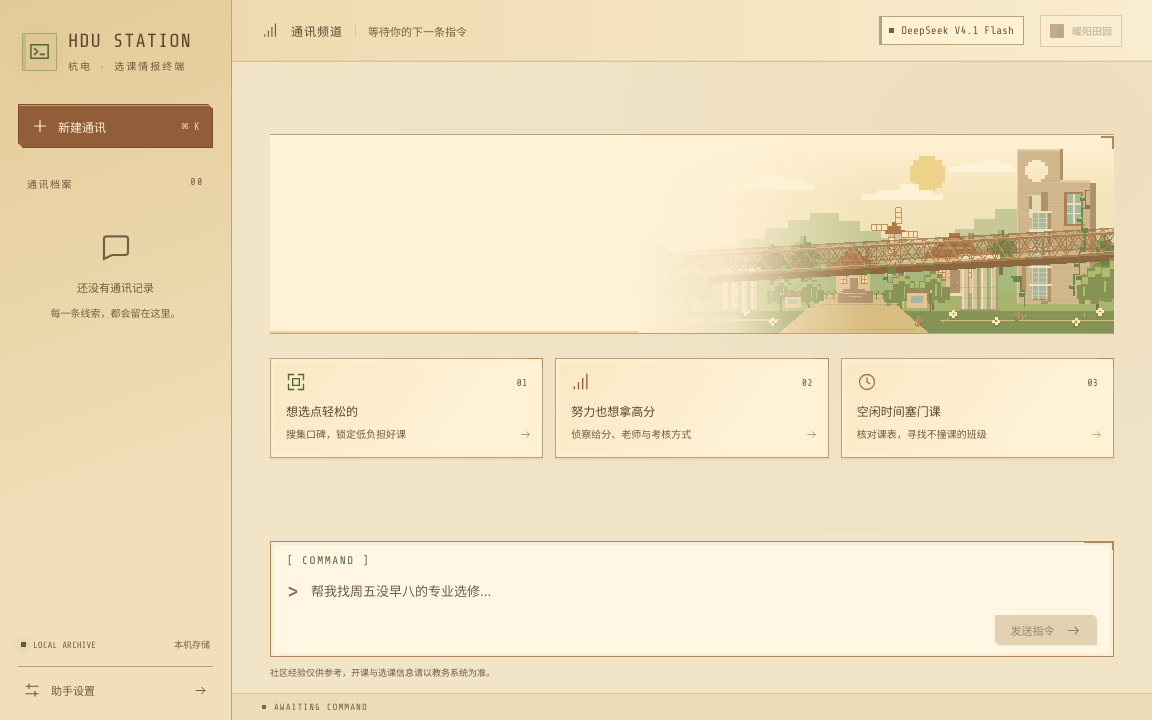
course assistant › streams Markdown, stops the right request and preserves its final partial answer
What coordinates should you click on to do the following:
click the button "01 想选点轻松的 搜集口碑，锁定低负担好课"
I would click on:
 (322, 412)
Its box is 270,358 -> 543,458.
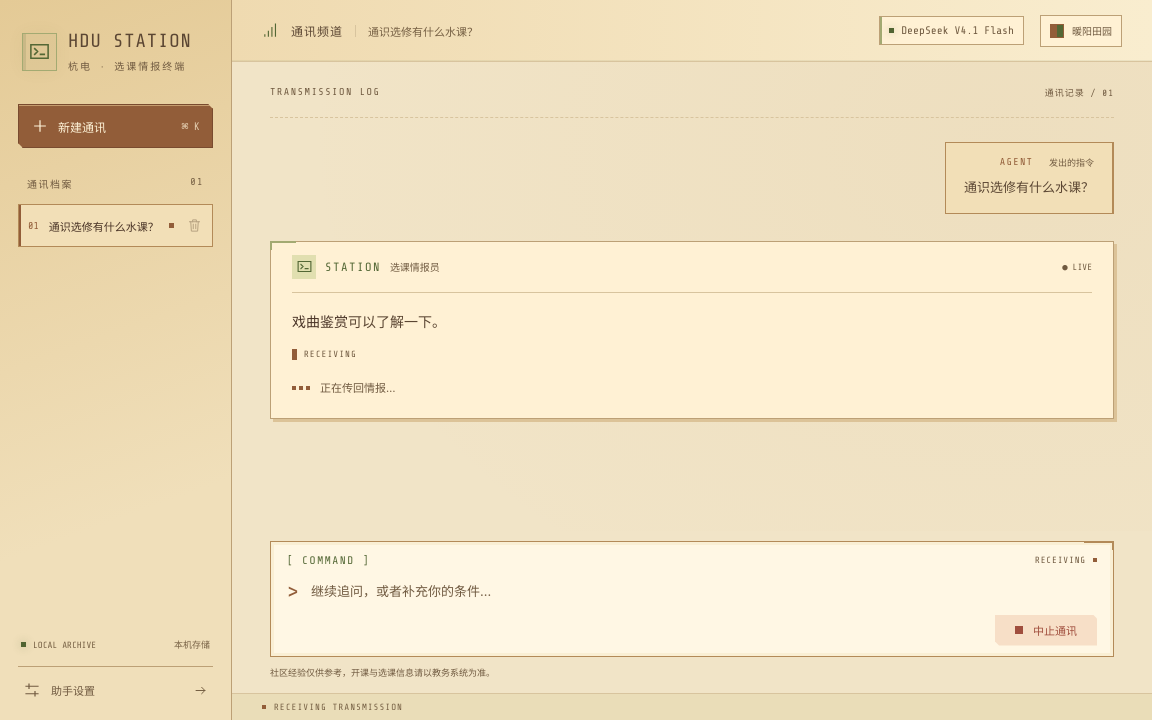
What coordinates should you click on to do the following:
click the button with aria-label "停止回答"
I would click on:
 (1046, 630)
Its box is 995,615 -> 1097,646.
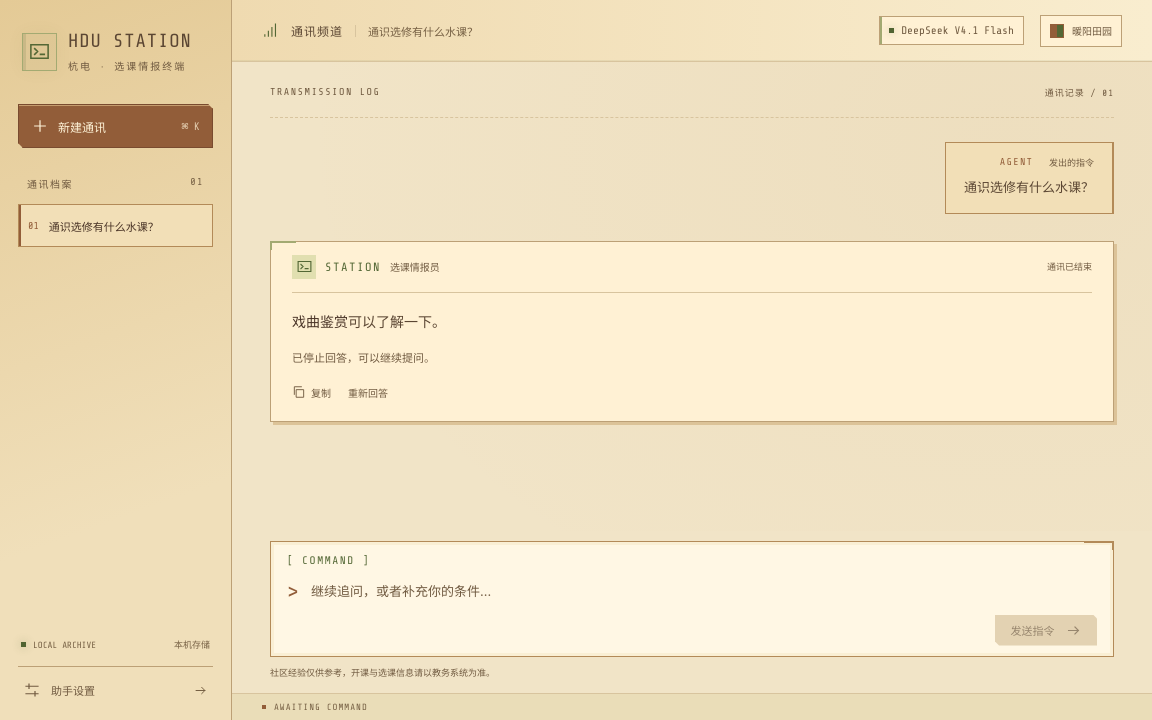
Result: the text "戏曲鉴赏" is shown once at 292,313 -> 348,330
Result: the text "已停止回答，可以继续提问。" is shown at 292,351 -> 435,365
Result: the button "重新回答" is enabled at 348,381 -> 388,404
